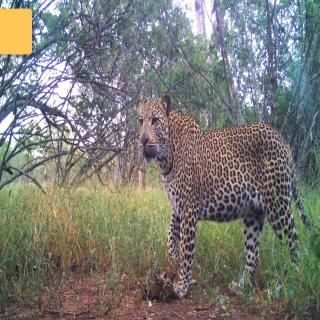Leopard: (123, 85, 318, 307)
